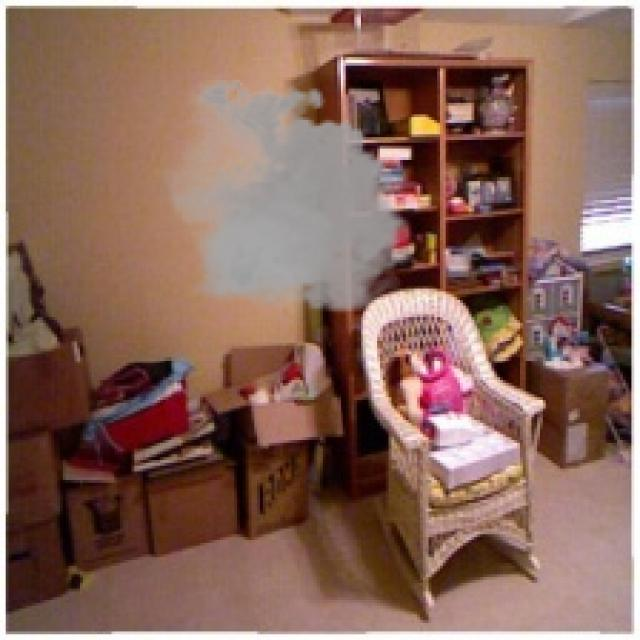smoke: (154, 71, 420, 323)
